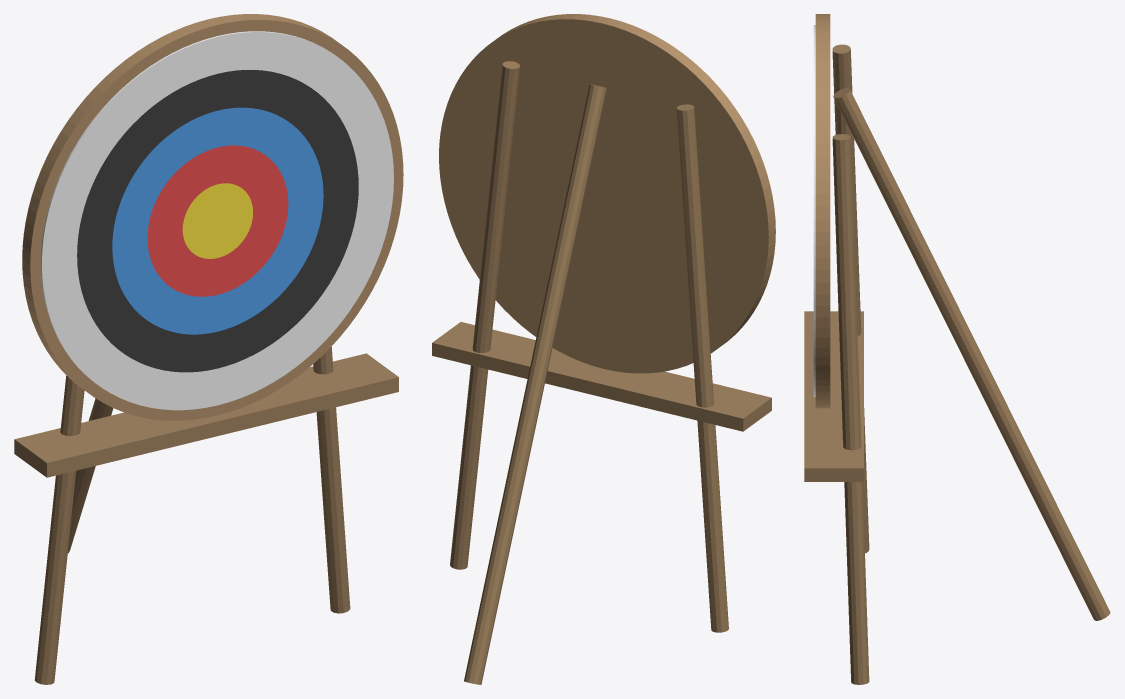
The model's file is target.glb.
3 renders of one model, left to right at view 1: azimuth 30°, elevation 25°; view 2: azimuth 150°, elevation 25°; view 3: azimuth 270°, elevation 25°, orthographic. The views are drawn at different scales.
Visible parts, largest first — view 1: Ring_4, Ring_3, Ring_2, Board, Ledge, Ring_1, Leg_L, Leg_R, Ring_0_Bull, Leg_Back; view 2: Board, Leg_Back, Ledge, Leg_L, Leg_R; view 3: Leg_Back, Leg_R, Board, Ledge, Leg_L, Ring_4.
Part boxes in pixels (x1,y1,x2,y2): Ring_4: (41, 31, 393, 410); Ring_3: (77, 70, 358, 372); Ring_2: (112, 107, 323, 334); Board: (22, 14, 403, 420); Ledge: (14, 353, 398, 477); Ring_1: (147, 145, 288, 296); Leg_L: (34, 375, 84, 684); Leg_R: (313, 347, 350, 613); Ring_0_Bull: (182, 183, 252, 258); Leg_Back: (67, 398, 113, 553); Board: (439, 14, 775, 373); Leg_Back: (464, 84, 606, 684); Ledge: (432, 322, 771, 431); Leg_L: (676, 104, 728, 632); Leg_R: (450, 61, 519, 569); Leg_Back: (833, 88, 1110, 620); Leg_R: (832, 134, 869, 684); Board: (815, 14, 830, 408); Ledge: (804, 311, 863, 481); Leg_L: (832, 44, 869, 553); Ring_4: (813, 25, 815, 396).
Size of the model in its own units: 1.06 by 1.74 by 0.8228.
